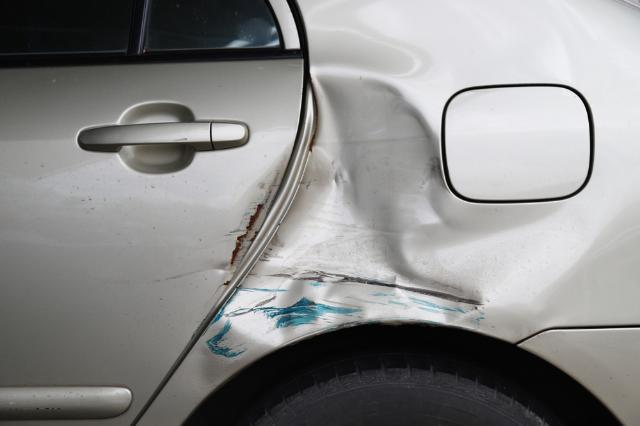dent: (224, 70, 582, 344)
scratch: (225, 177, 278, 273), (202, 313, 248, 360)
